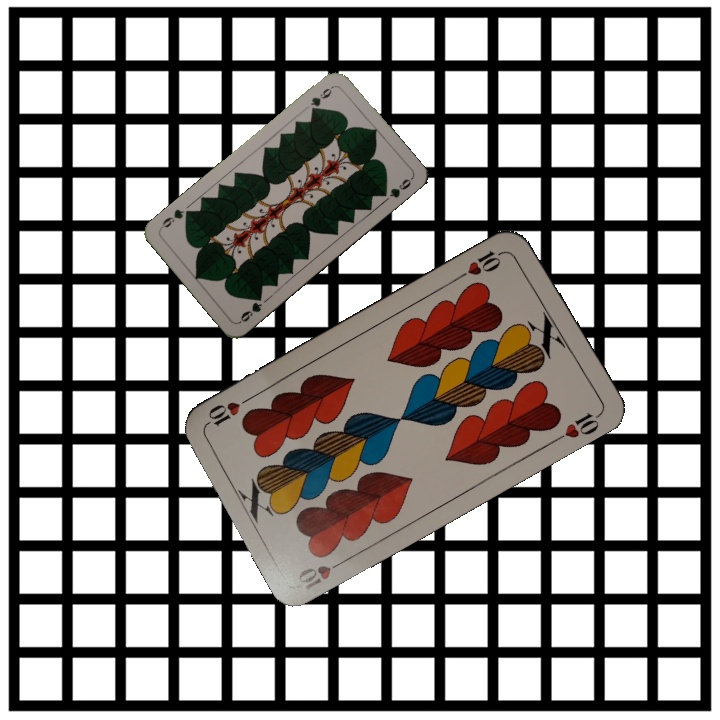G9: (235, 291, 265, 326), (306, 82, 336, 115)
H10: (294, 554, 351, 595), (454, 246, 509, 281)
